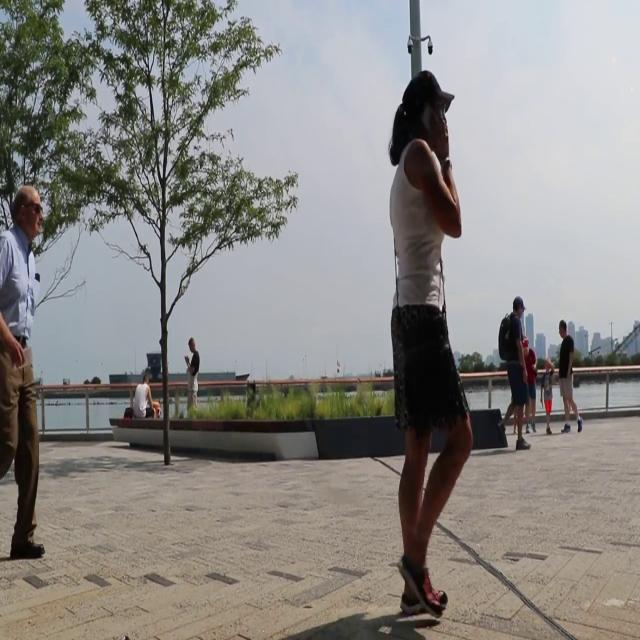normal: (374, 68, 478, 615), (0, 176, 62, 568)
